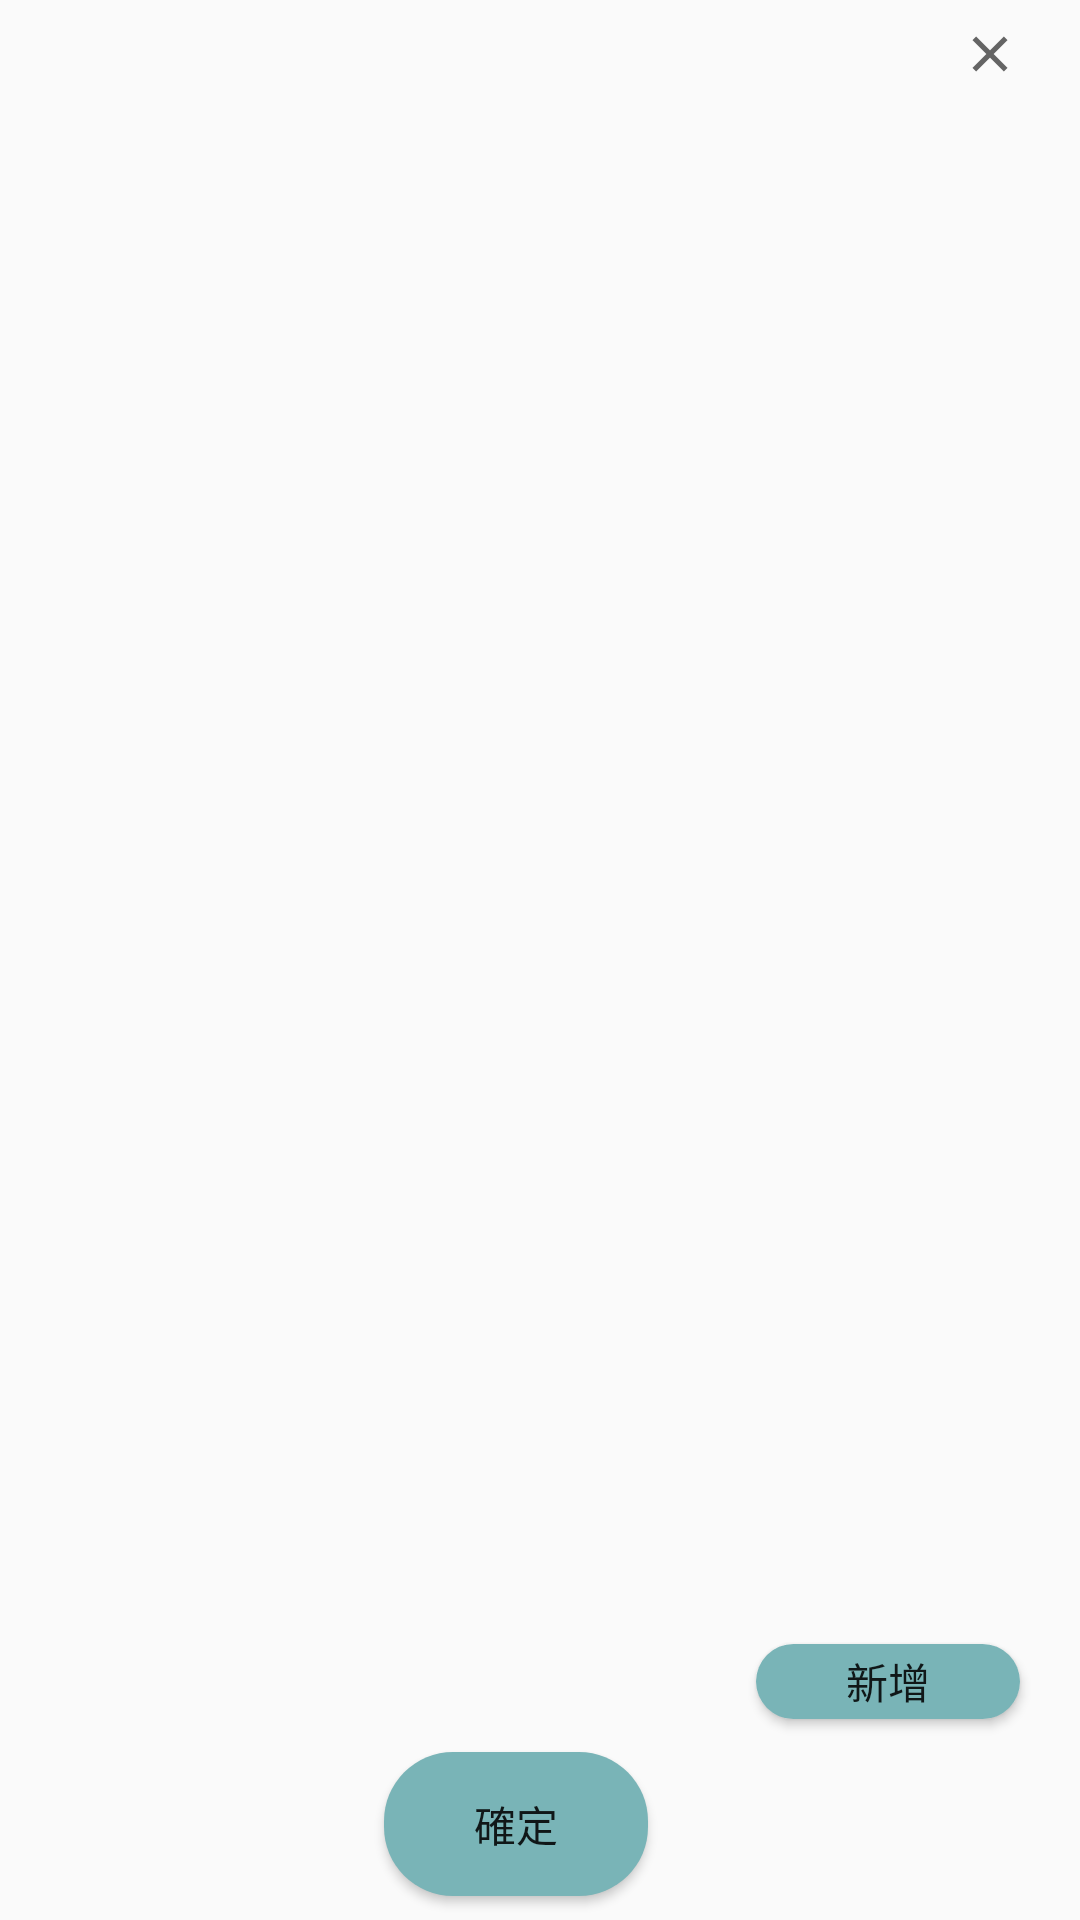

Screen size 1080px x 1920px. Icon name, then its box in pixels as Rect(x1, y1, x2, y2):
close: Rect(972, 36, 1008, 72)
